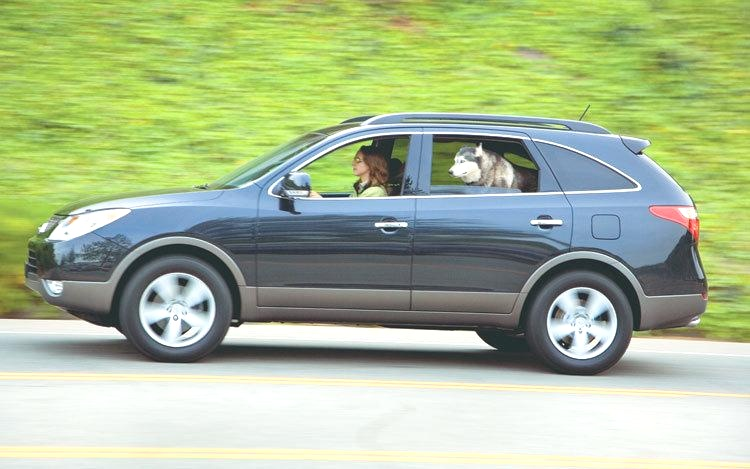car: (1, 100, 718, 406)
